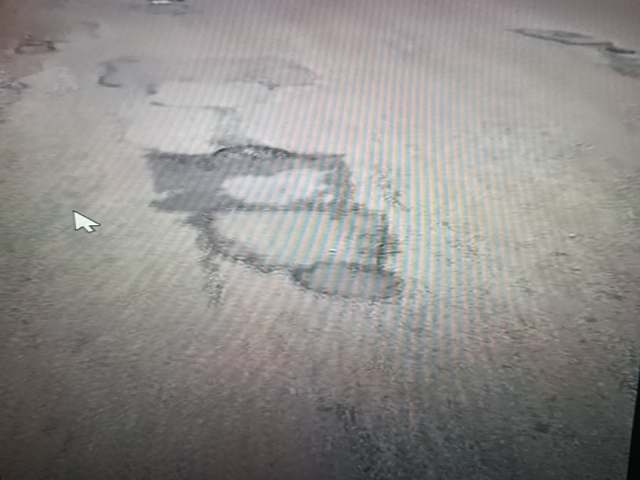pothole: (109, 403, 326, 480)
